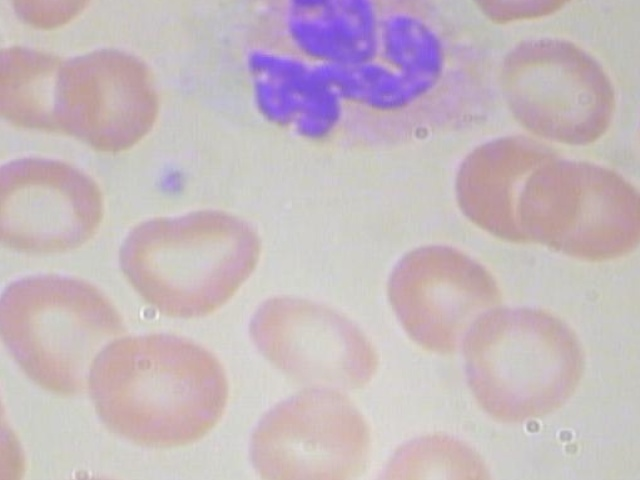RBC: (109, 192, 270, 330), (0, 267, 145, 406), (80, 328, 231, 457), (238, 277, 386, 404), (373, 234, 511, 362), (487, 31, 629, 146), (456, 303, 588, 422), (239, 376, 388, 480), (511, 146, 640, 266), (0, 141, 113, 270), (46, 48, 163, 154), (0, 37, 86, 143), (457, 0, 594, 34), (0, 0, 116, 39), (0, 312, 16, 443)
WBC: (180, 0, 504, 164)
